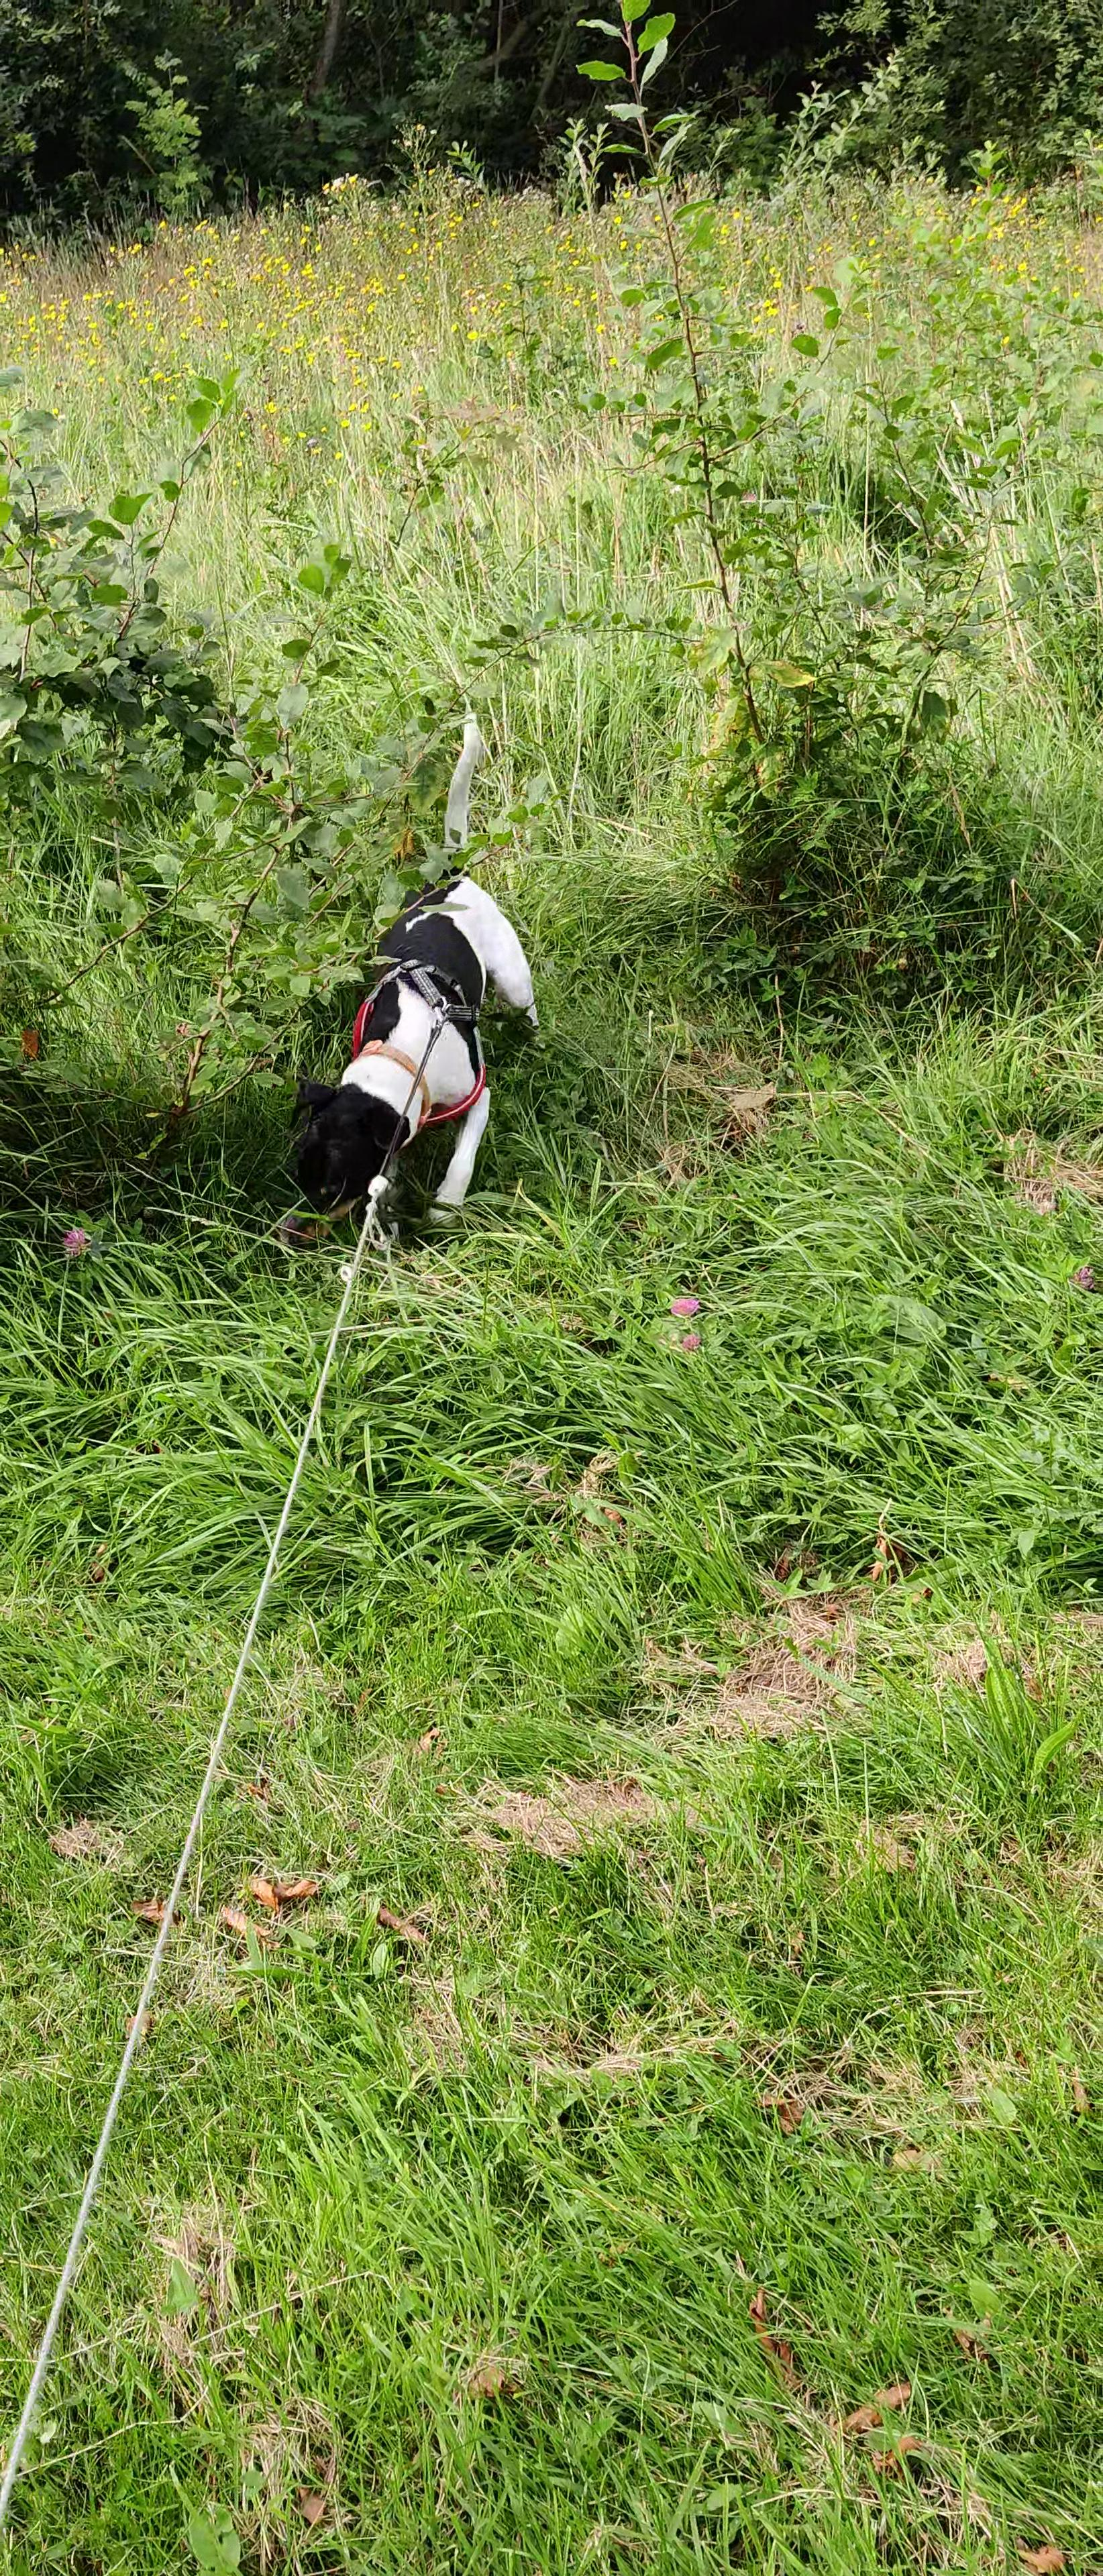Dog: (240, 690, 562, 1272)
